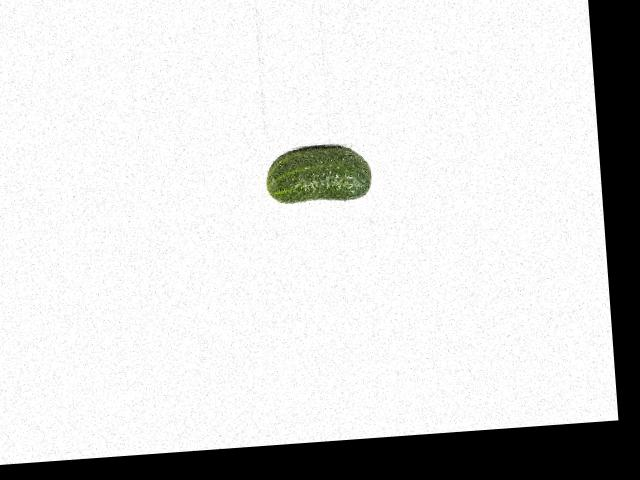cucumber: (264, 142, 373, 204)
